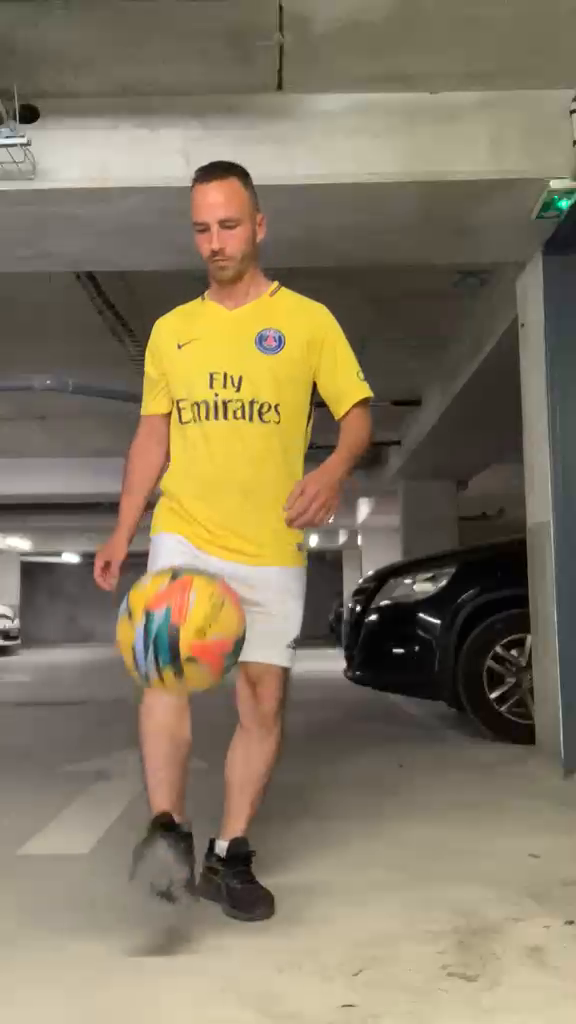ball: (115, 567, 245, 697)
